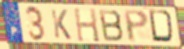3: (24, 5, 46, 43)
B: (98, 9, 126, 43)
D: (147, 8, 177, 45)
H: (73, 7, 102, 44)
K: (49, 7, 73, 41)
P: (122, 9, 150, 44)
